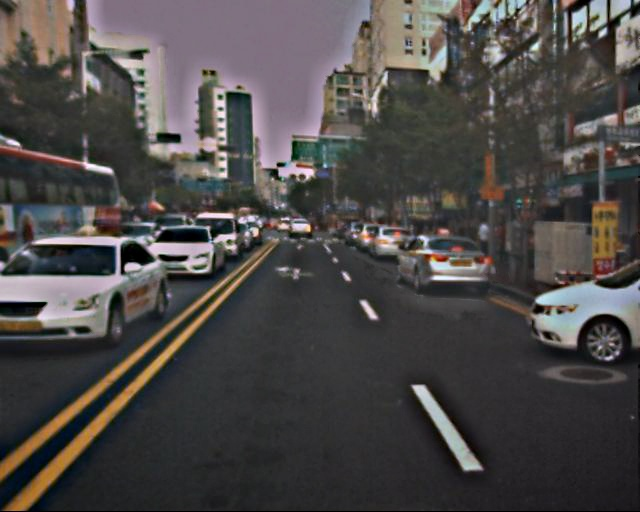person: (473, 218, 494, 270)
